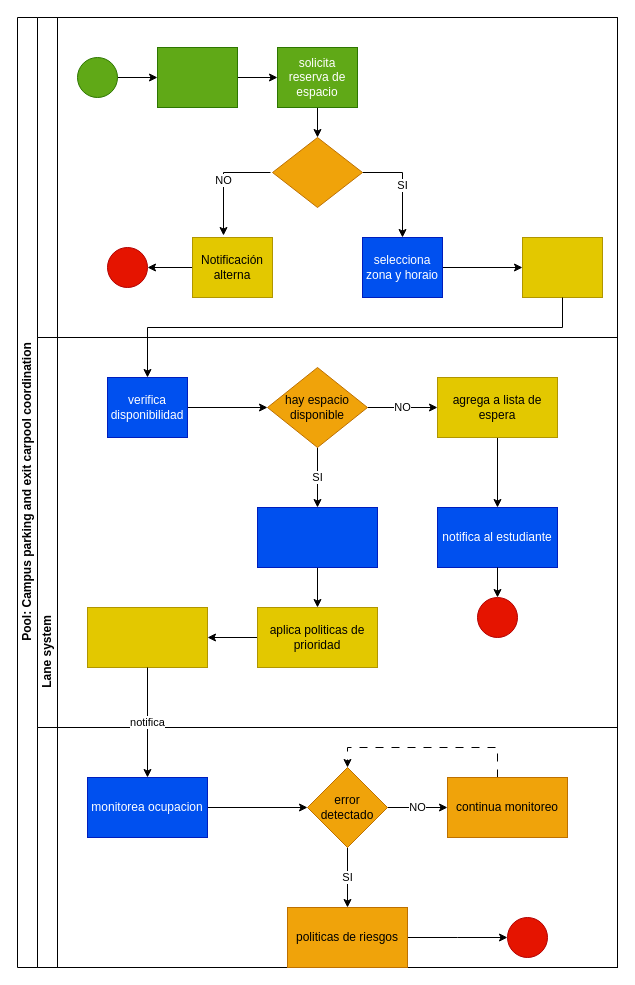
Some shapes in this 635 by 985 pixel diagram are drawn without their labels. Here are the shapes that lost their labels. From the top down, the box of each, then its label:
(156, 46, 238, 108): accede al sistema
(272, 136, 362, 208): credenciales validas
(36, 16, 618, 338): Lane student
(522, 236, 602, 298): confirma solicitud
(256, 506, 378, 568): asigna espacio
(86, 606, 208, 668): genera confirmacion
(36, 726, 618, 968): Lane 3 security guard
